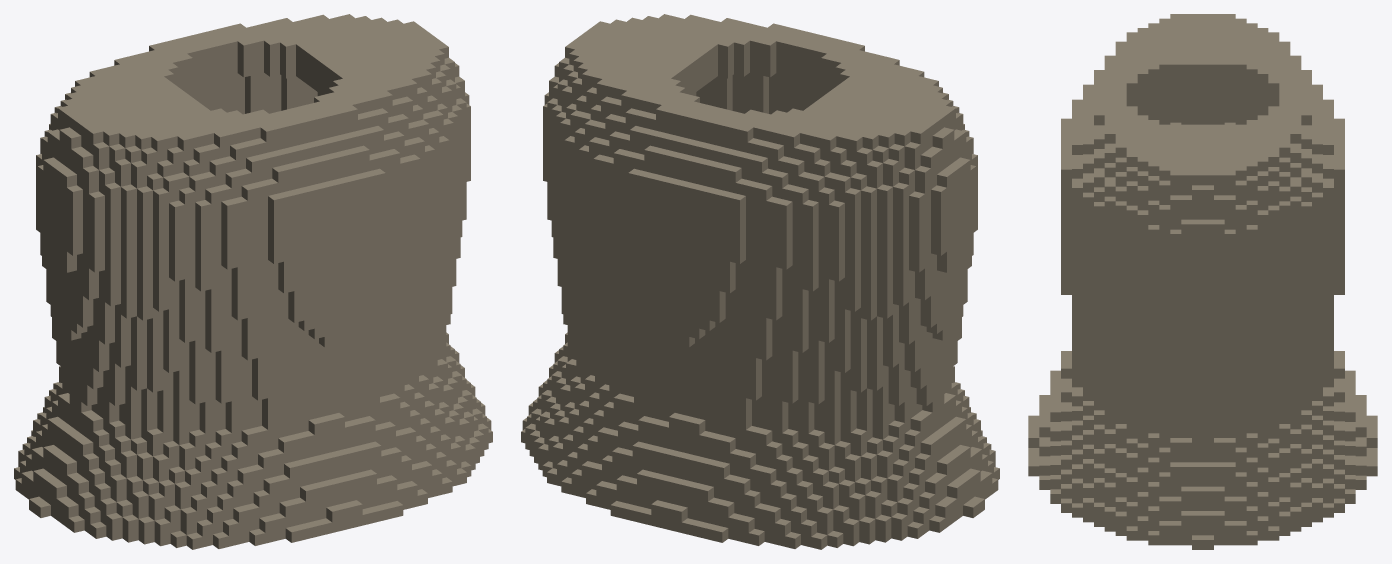
Rendered from cloth_uncommon_chest.glb.
The picture shows the model from 3 angles, left to right: view 1: azimuth 30°, elevation 25°; view 2: azimuth 150°, elevation 25°; view 3: azimuth 270°, elevation 25°; orthographic projection. The views are drawn at different scales.
Visible parts, largest first — view 1: cloth_uncommon_chest; view 2: cloth_uncommon_chest; view 3: cloth_uncommon_chest.
Part boxes in pixels (<box>): cloth_uncommon_chest: <box>14,14,492,549</box>; cloth_uncommon_chest: <box>521,14,999,549</box>; cloth_uncommon_chest: <box>1028,14,1377,549</box>.
Size of the model in its own units: 0.516 by 0.432 by 0.384.
